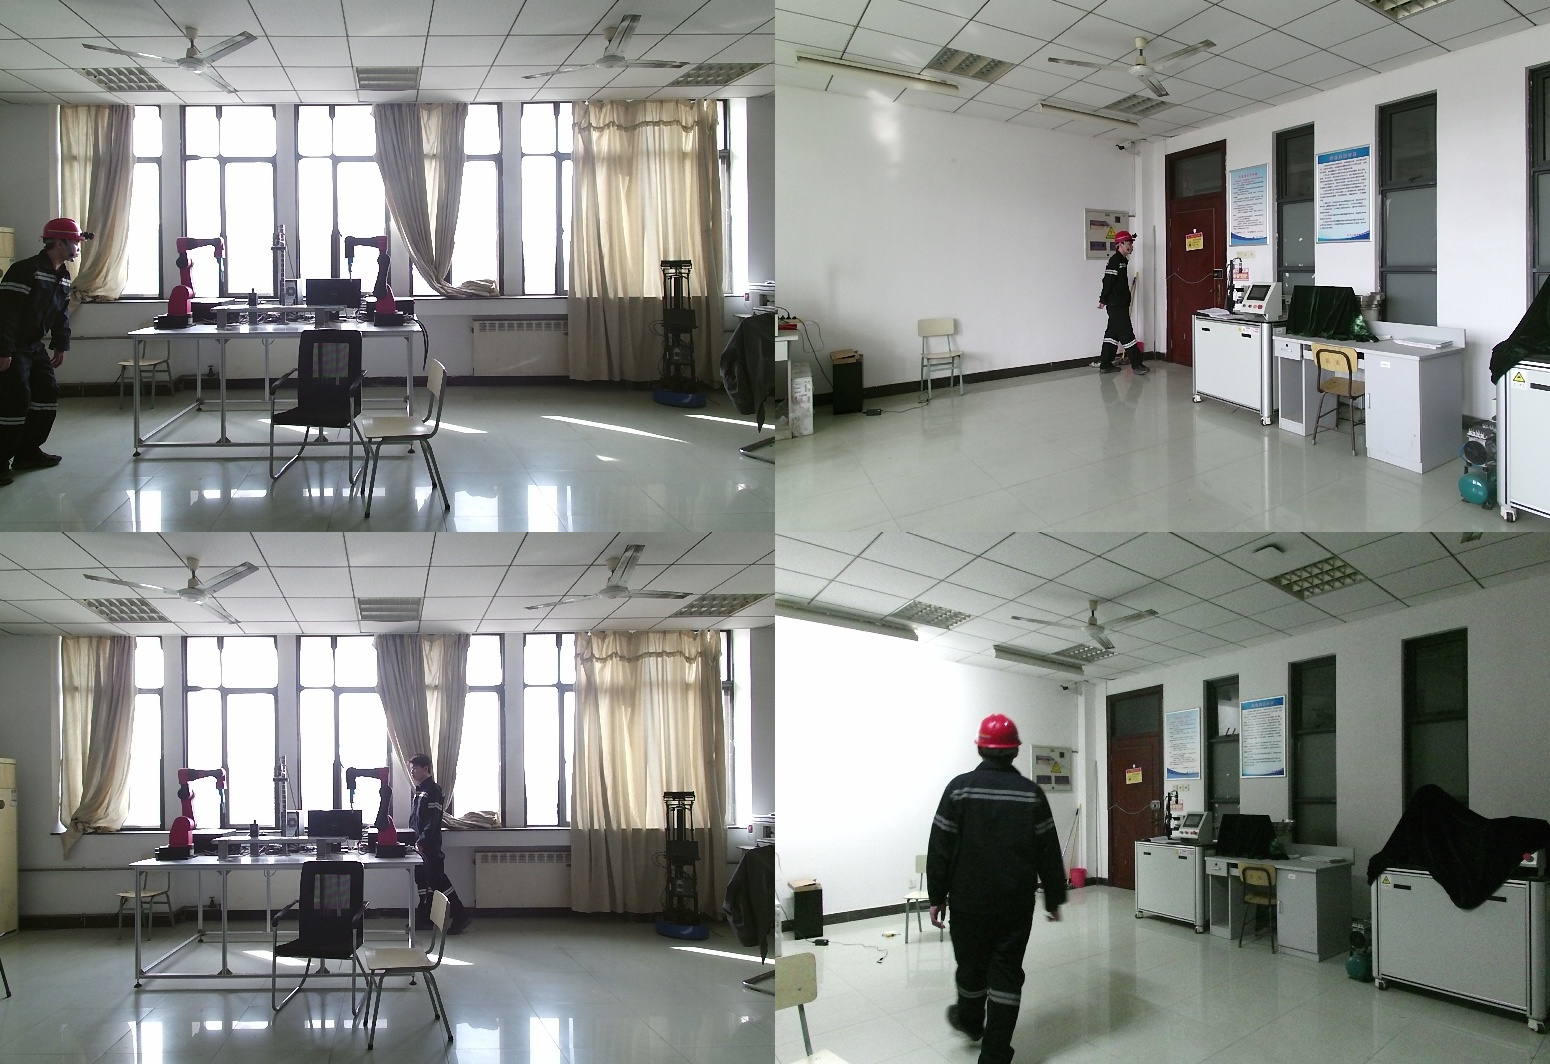person: (929, 710, 1070, 1064), (1, 220, 99, 486), (407, 752, 470, 939), (1095, 232, 1148, 375)
